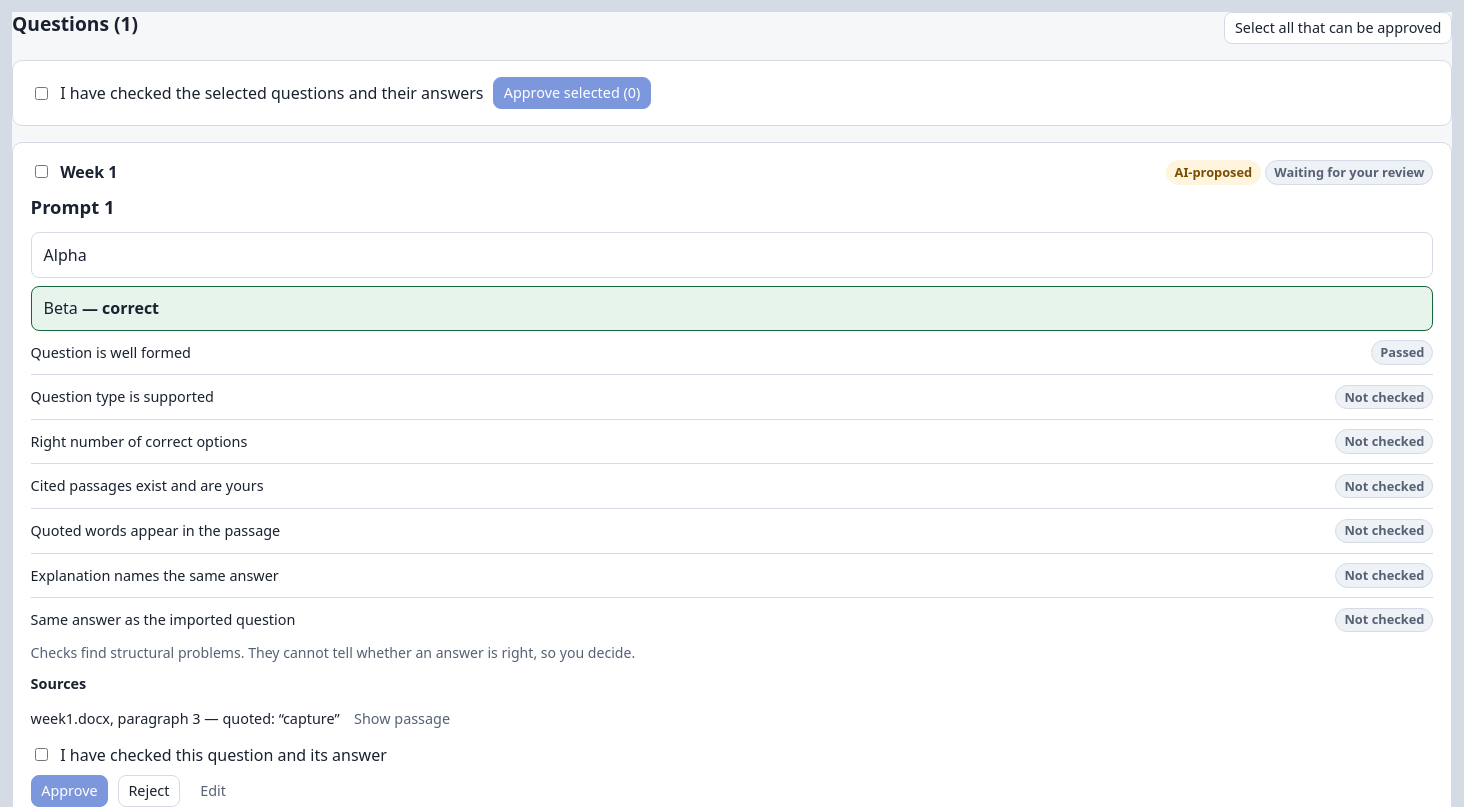
Scenario: ReviewQueue › opens a cited passage on request
Expected: the text "week1.docx, paragraph 3 — quoted: “capture” Show passage" is shown, 31,703 -> 461,735
What coordinates should you click on to do the following:
click the button "Show passage"
I would click on:
 (402, 719)
Its box is 343,703 -> 461,735.
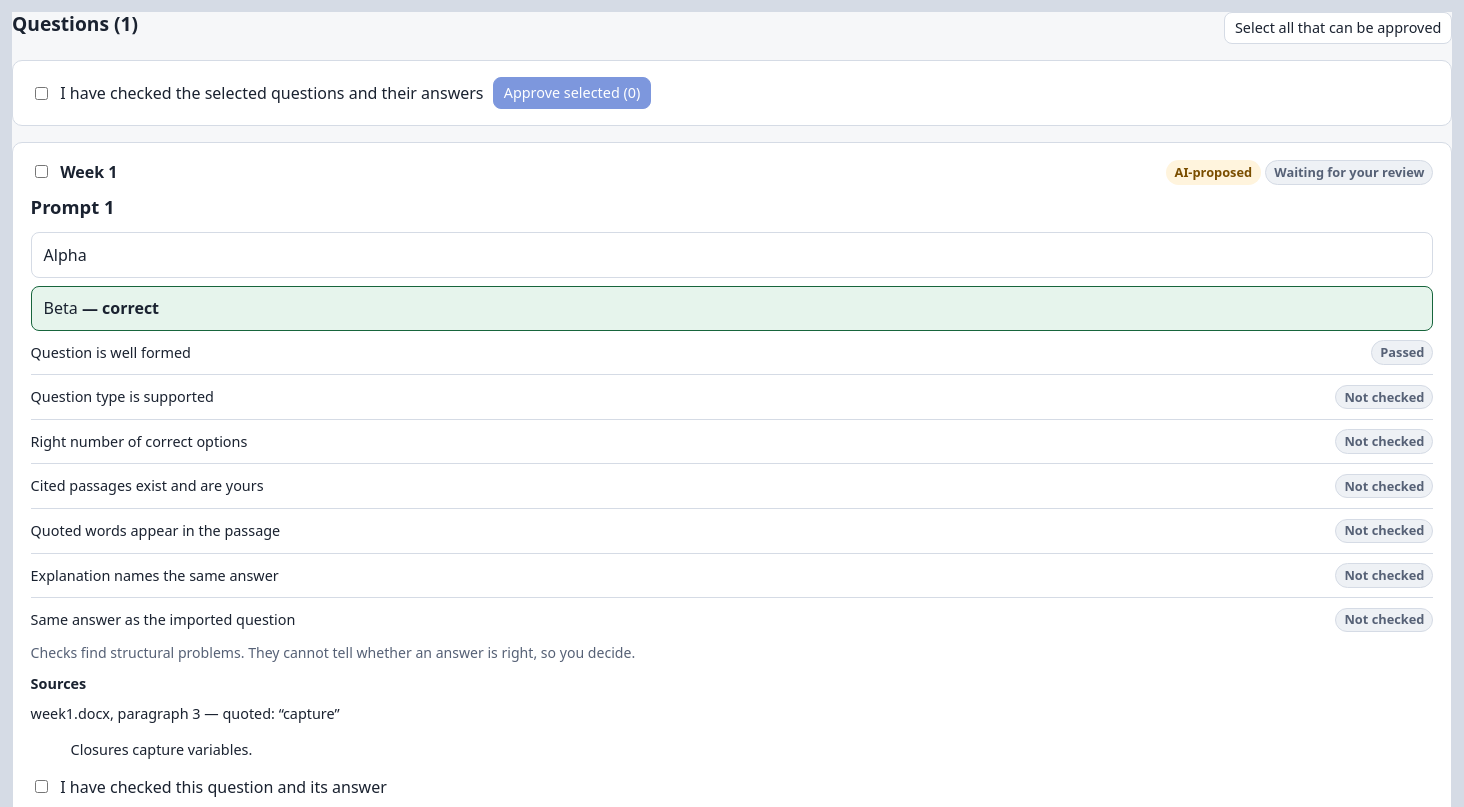
Result: the text "Closures capture variables." is shown at 71,740 -> 252,759
